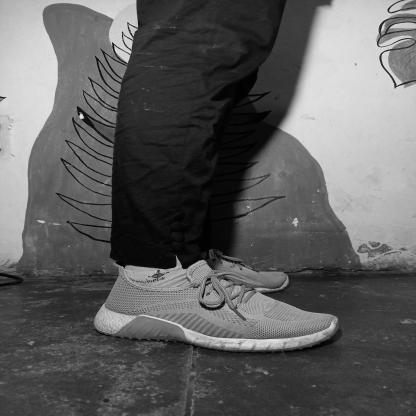ankle: (155, 290, 158, 292)
heel: (106, 304, 108, 307)
pinky: (301, 331, 306, 334)
right_foot: (95, 274, 341, 353)
toe: (322, 315, 326, 317)
